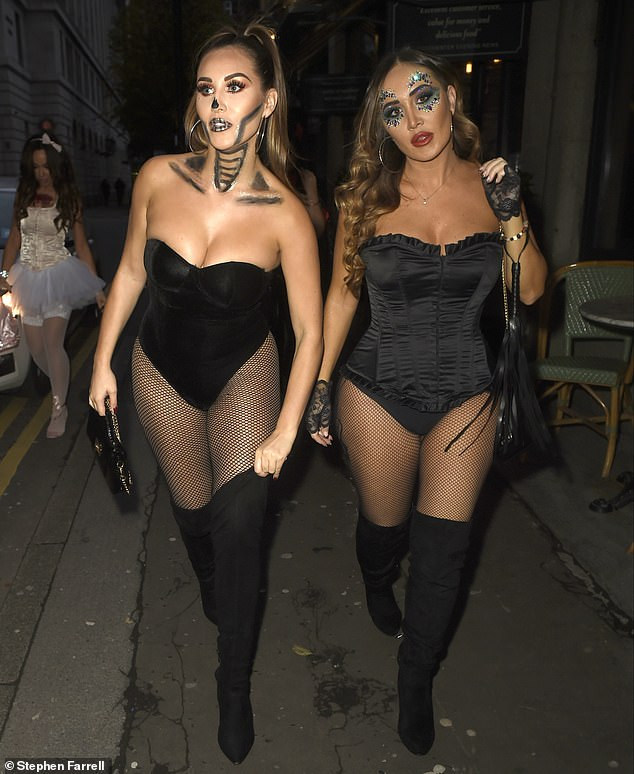Person: (83, 22, 319, 765), (302, 42, 534, 774), (4, 116, 107, 452)
